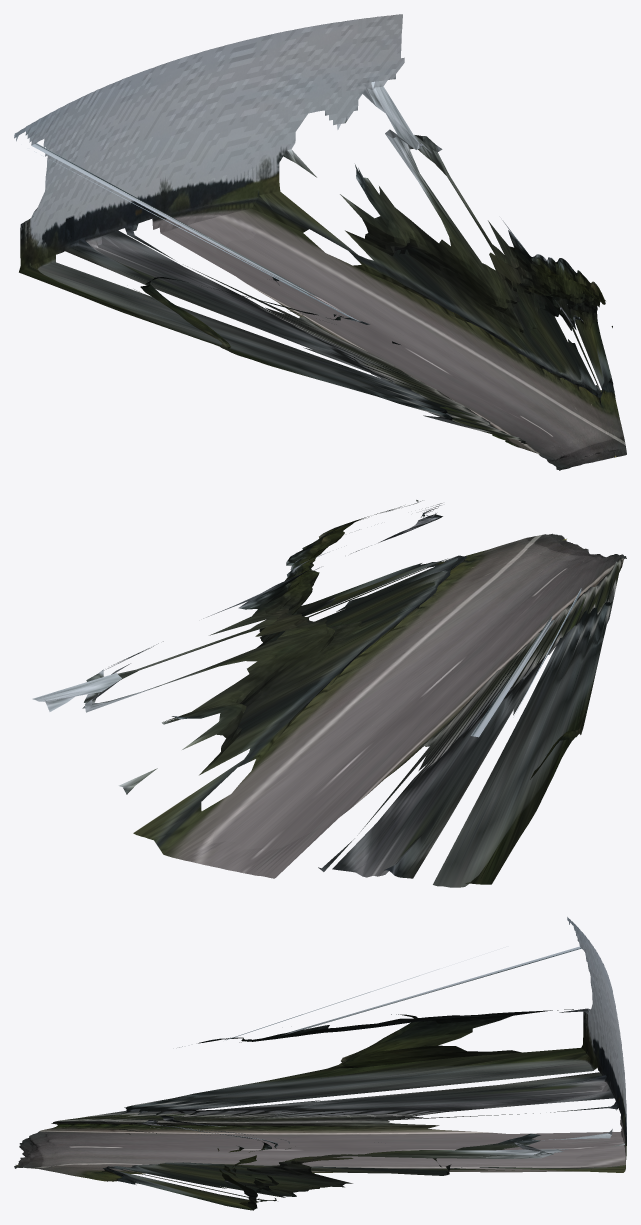
The picture shows the model from 3 angles, top to bottom: view 1: azimuth 30°, elevation 25°; view 2: azimuth 150°, elevation 25°; view 3: azimuth 270°, elevation 25°; orthographic projection. The views are drawn at different scales.
Parts seen in each view (by area): view 1: defaultobject; view 2: defaultobject; view 3: defaultobject.
Boxes of the visible parts, <box> form: defaultobject: <box>14,14,626,470</box>; defaultobject: <box>32,500,626,887</box>; defaultobject: <box>14,917,626,1210</box>.
Bounding box in the file's own units: 29.72 × 12.28 × 44.77.
1 material, 1 textured.
